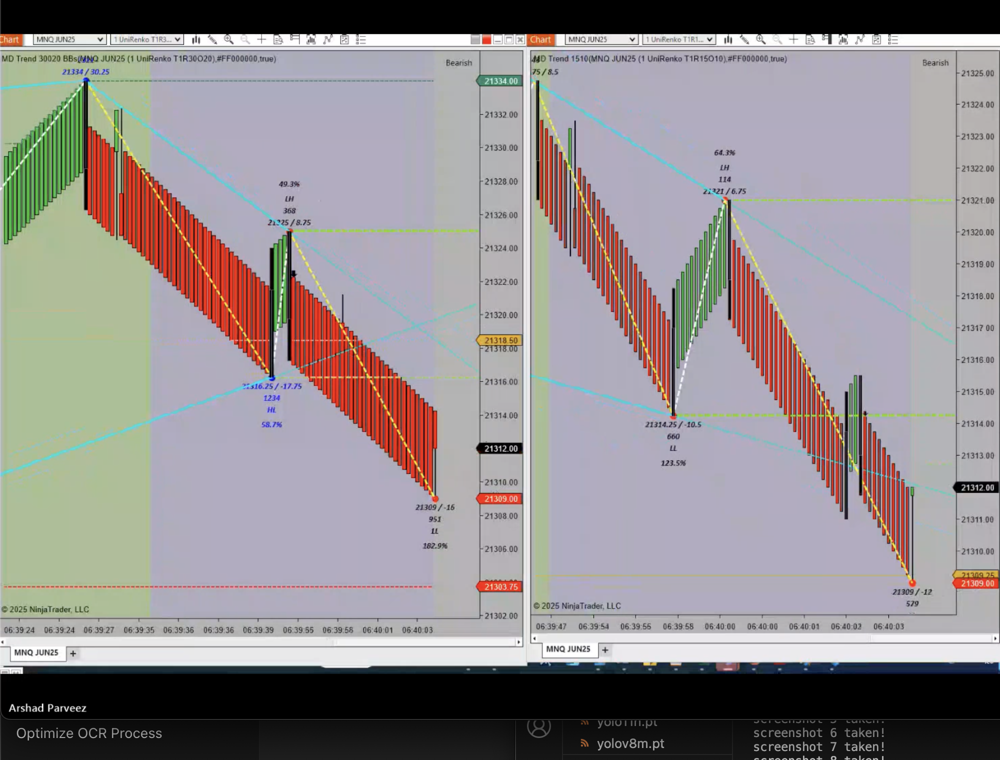HL: (262, 402, 281, 418)
LH: (716, 159, 735, 176), (282, 192, 297, 206)
LL: (667, 439, 680, 456), (429, 523, 442, 539)
